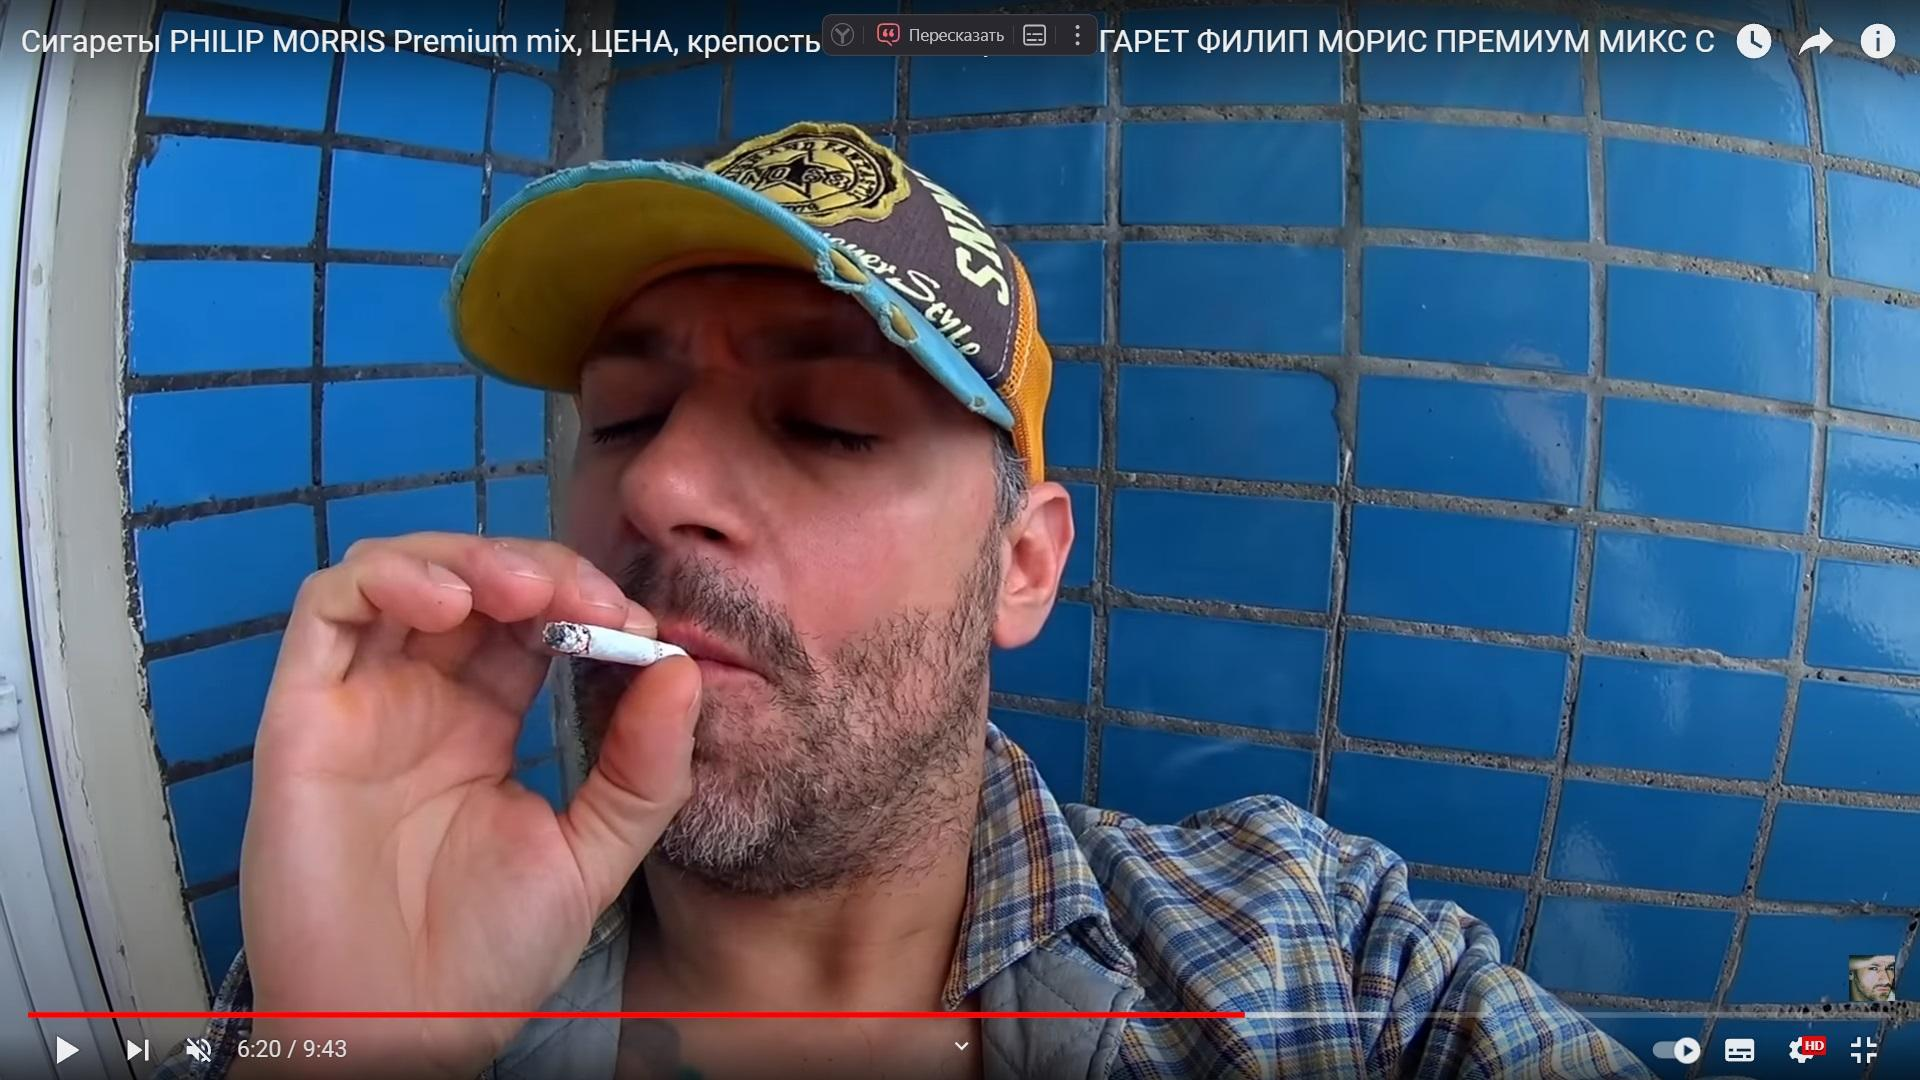cigarette: (541, 620, 691, 667)
